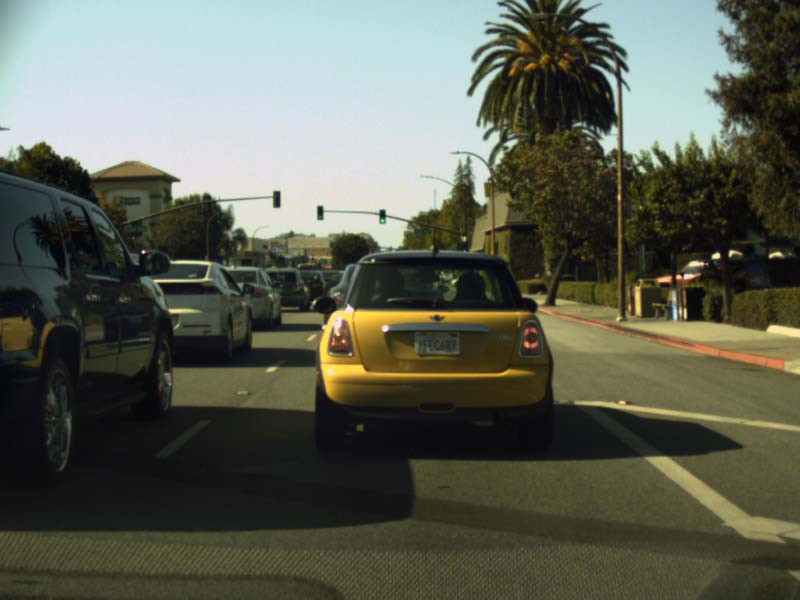Green: (378, 208, 385, 224), (316, 205, 323, 219)
